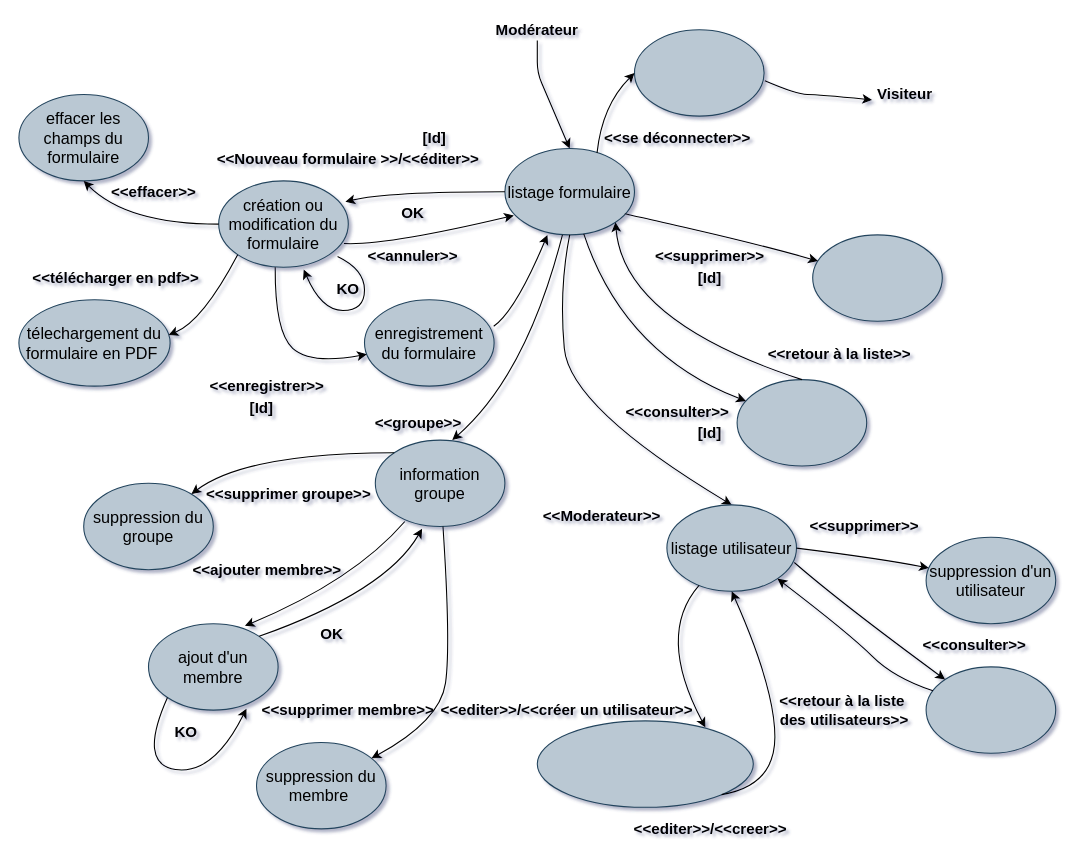
This 1081x864 diagram has some shape labels left out. Here are the shapes that lost their labels. From the top down, the box of each, then its label:
(633, 29, 764, 116): déconnexion
(812, 234, 942, 321): suppression du formulaire
(736, 379, 867, 466): affichage du formulaire
(925, 666, 1056, 753): information utilisateur
(536, 720, 753, 807): création ou modification des informations utilisateur
